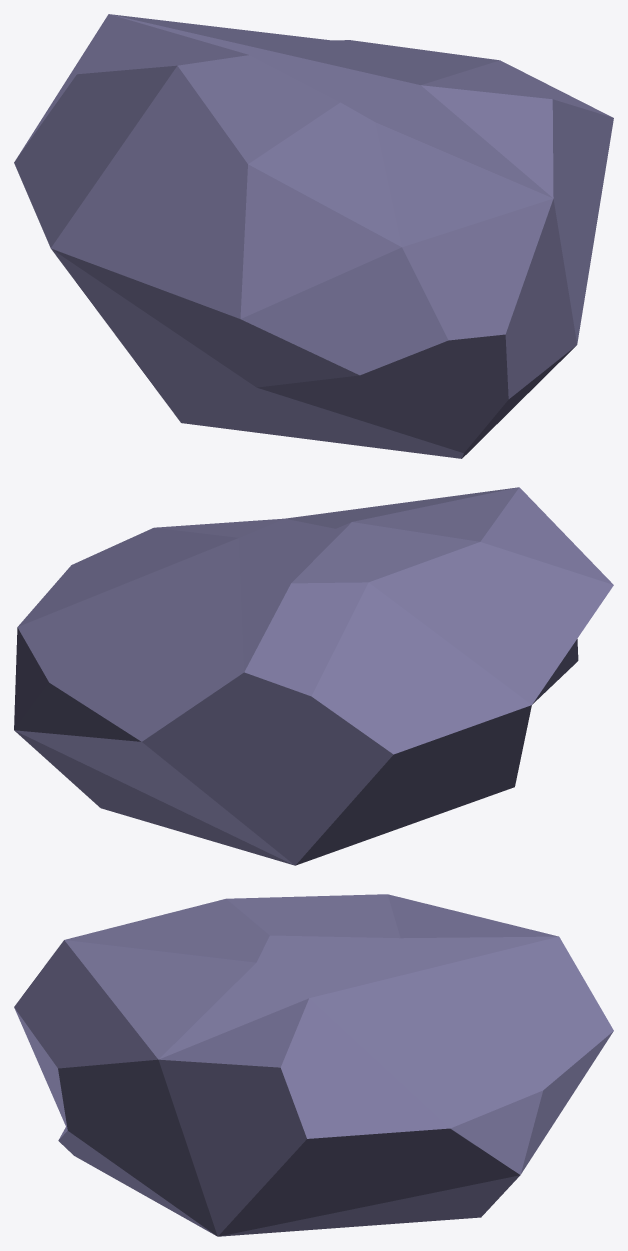
Rendered from Rock_small_v2.glb.
3 views of the same model, one above another, from view 1: azimuth 30°, elevation 25°; view 2: azimuth 150°, elevation 25°; view 3: azimuth 270°, elevation 25° (orthographic). The views are drawn at different scales.
Parts seen in each view (by area): view 1: Rock-col.006; view 2: Rock-col.006; view 3: Rock-col.006.
Part boxes in pixels (box(x1,y1,x2,y2)): Rock-col.006: box(14, 14, 613, 458); Rock-col.006: box(14, 487, 613, 865); Rock-col.006: box(14, 894, 613, 1236).
Bounding box in the file's own units: 1.31 × 0.6342 × 1.53.
